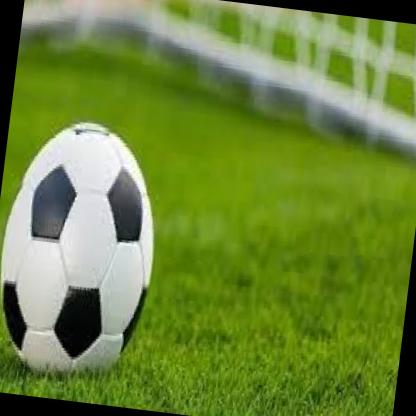ball: (0, 112, 169, 388)
